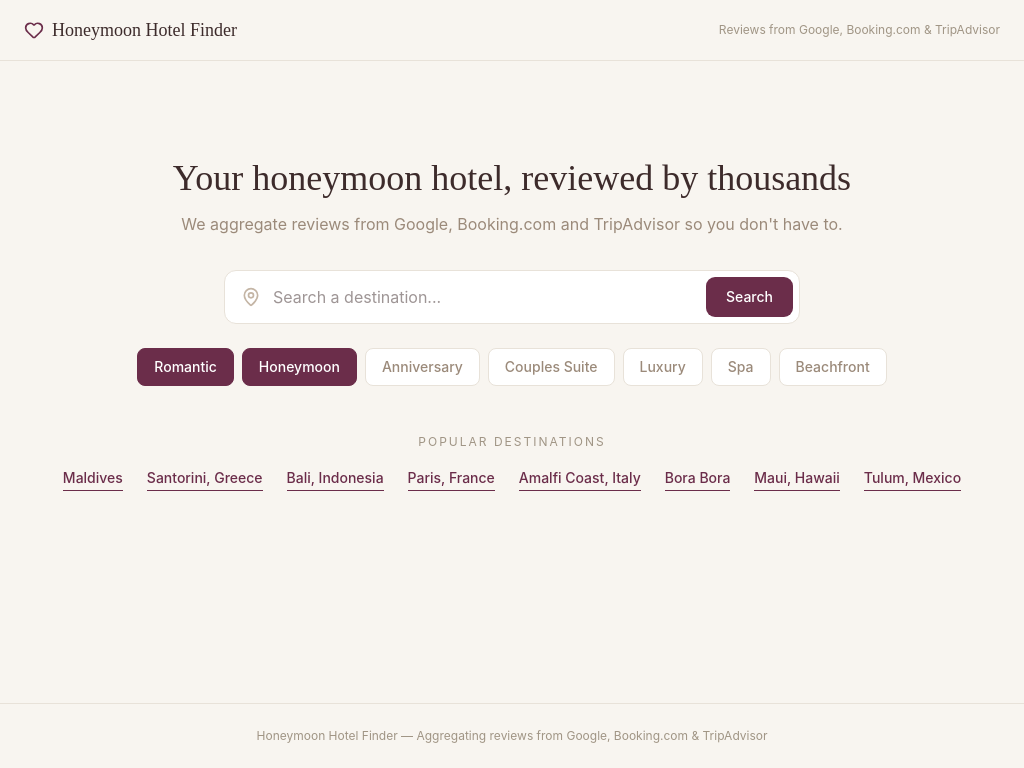
Scenario: Search & Results Page › displays autocomplete suggestions when typing
The image size is (1024, 768).
Type "Paris" into the field with placeholder "Search a destination...". click: (484, 297)
box: left=261, top=271, right=706, bottom=323
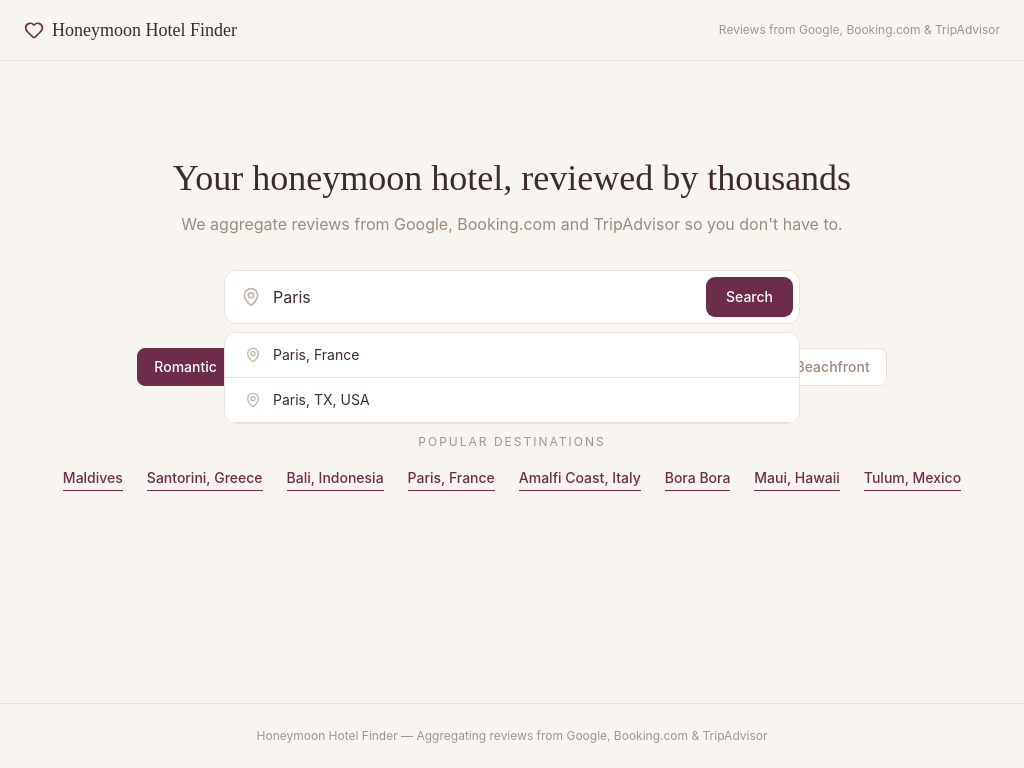
expect the text "Paris, France" is shown: met, box left=273, top=345, right=359, bottom=365
expect the text "Paris, TX, USA" is shown: met, box left=273, top=390, right=370, bottom=410
